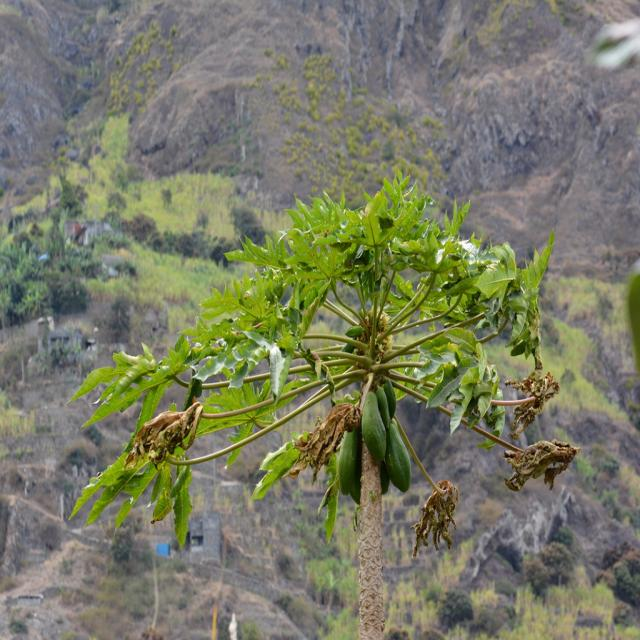Papaya-Tree: (82, 151, 570, 640)
